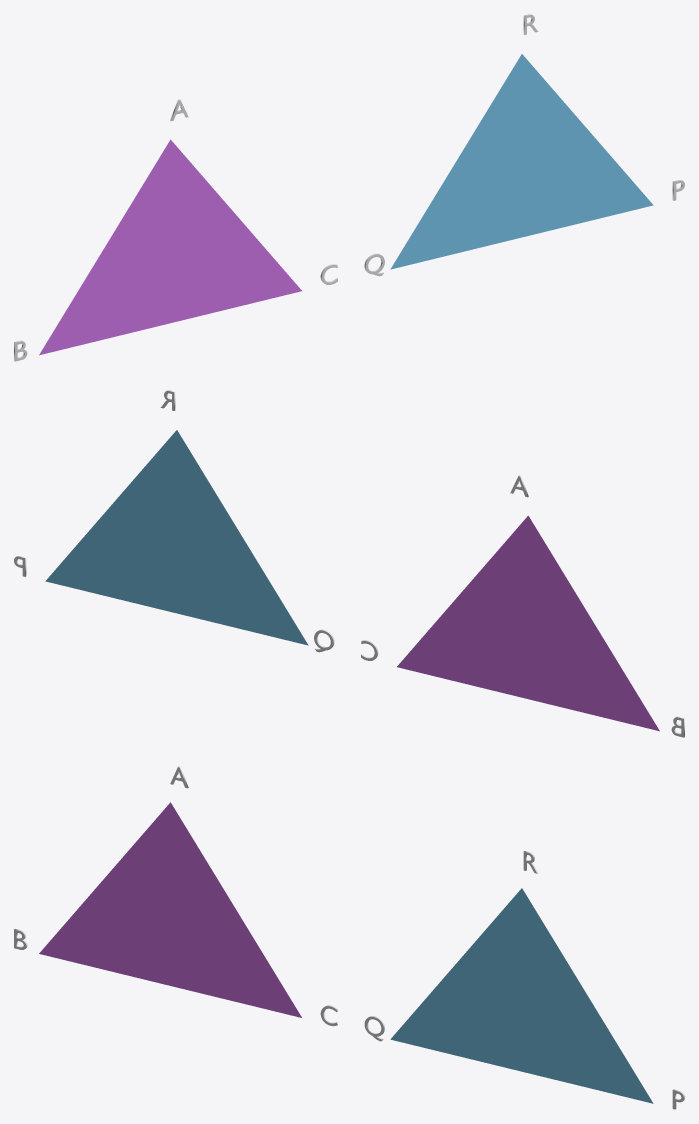
The model's file is asa_triangle_model.glb.
The picture shows the model from 3 angles, top to bottom: view 1: azimuth 30°, elevation 25°; view 2: azimuth 150°, elevation 25°; view 3: azimuth 330°, elevation 25°; orthographic projection.
Parts seen in each view (by area): view 1: ABC, PQR; view 2: ABC, PQR; view 3: PQR, ABC.
Boxes of the visible parts, box(x1,y1,x2,y2) form: ABC: box(39, 139, 301, 355); PQR: box(390, 54, 653, 269); ABC: box(397, 515, 659, 731); PQR: box(45, 430, 308, 645); PQR: box(390, 888, 653, 1103); ABC: box(39, 802, 301, 1017).
Size of the model in its own units: 7.63 by 2.45 by 0.02.
